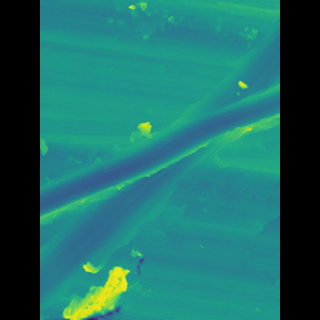Loch: (70, 18, 250, 314), (70, 86, 250, 214)
